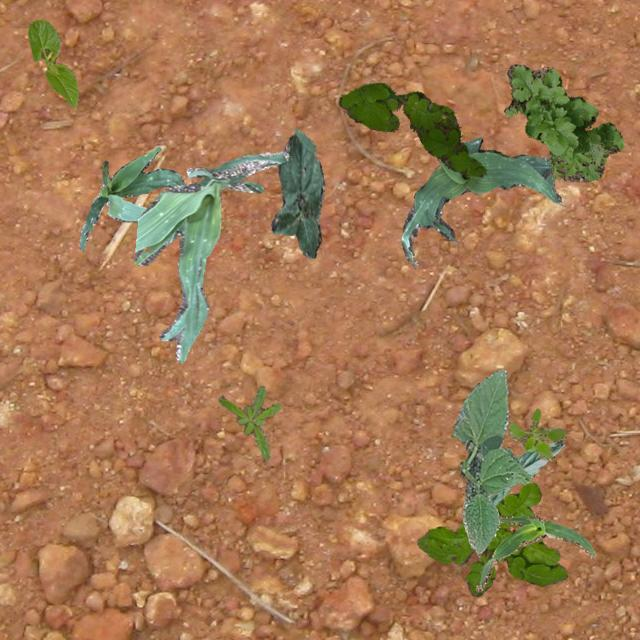crop: (134, 150, 288, 362), (401, 136, 559, 260), (452, 368, 530, 554), (78, 146, 184, 250), (474, 514, 594, 590), (270, 128, 324, 256), (488, 440, 564, 506), (27, 18, 78, 108)
weed: (416, 482, 566, 596), (338, 81, 486, 178), (503, 64, 622, 180), (218, 384, 280, 460), (508, 408, 564, 460)
